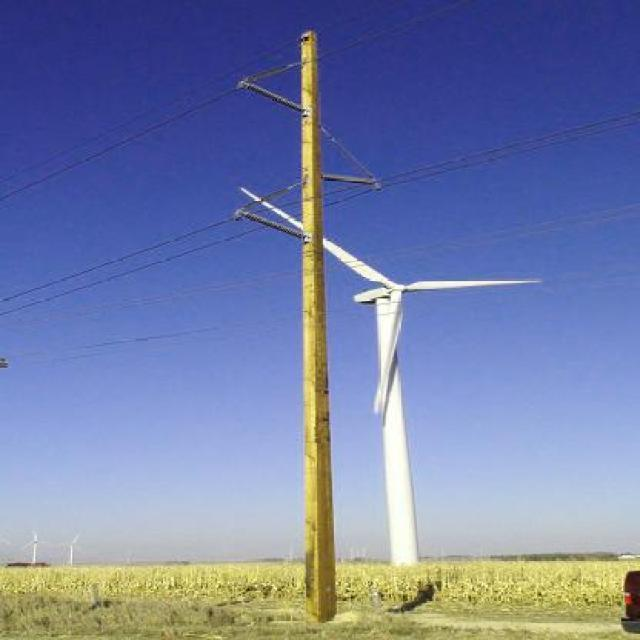light_pole: (219, 28, 366, 605)
